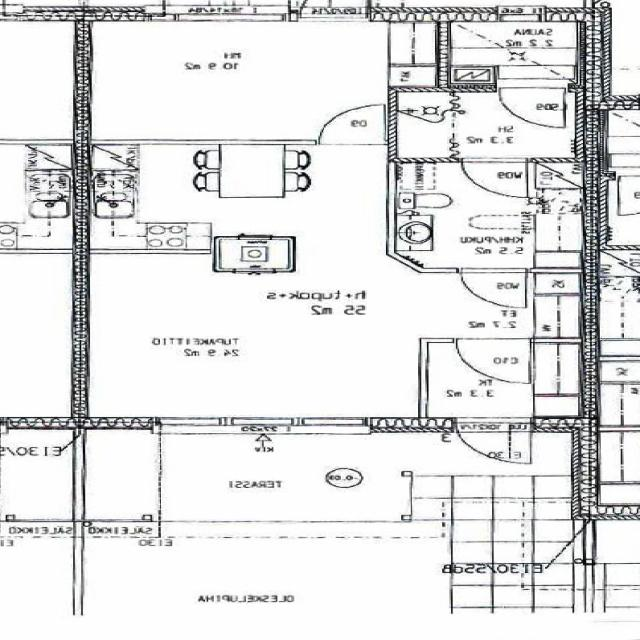door: (458, 417, 532, 472), (458, 338, 530, 382), (500, 84, 566, 128), (462, 157, 528, 198), (319, 104, 385, 144), (462, 268, 526, 308), (302, 0, 369, 21)
